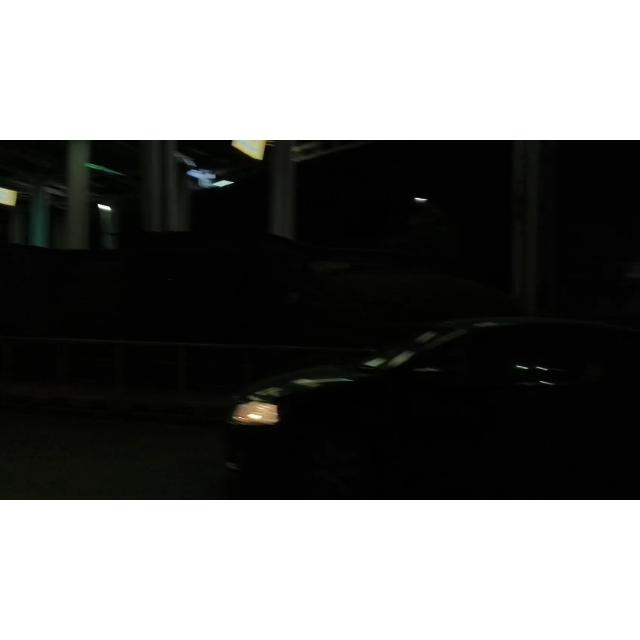car: (217, 296, 639, 500)
